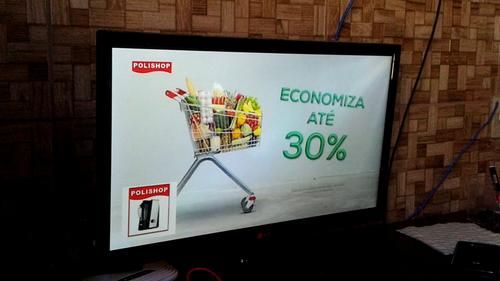Polishop #1: (120, 180, 177, 242)
